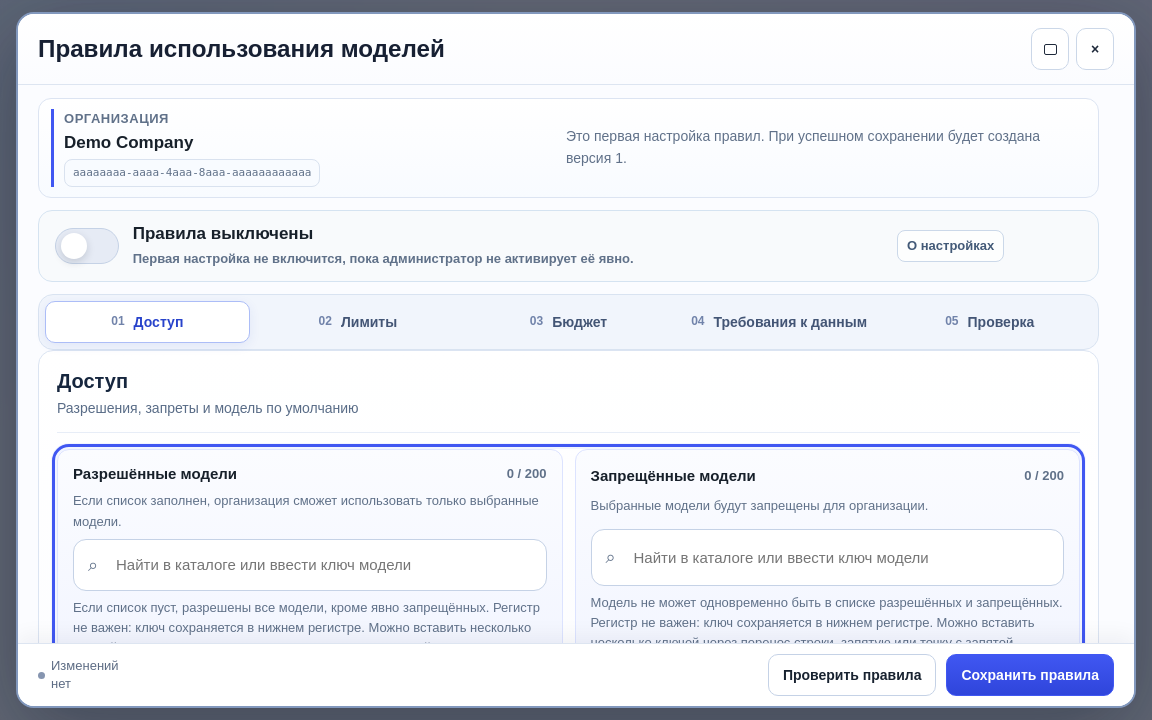
Test: ModelPolicyModal › показывает пользовательские названия без внутренних SOFT/runtime/policy формулировок
Expected: the heading "Правила использования моделей" is shown, [38,33,445,65]
Expected: the text "Это первая настройка правил. При успешном сохранении будет создана версия 1." is shown, [566,126,1086,170]
Step 1. Click the tab "03 Бюджет" → click(568, 322), box [466,301,671,343]
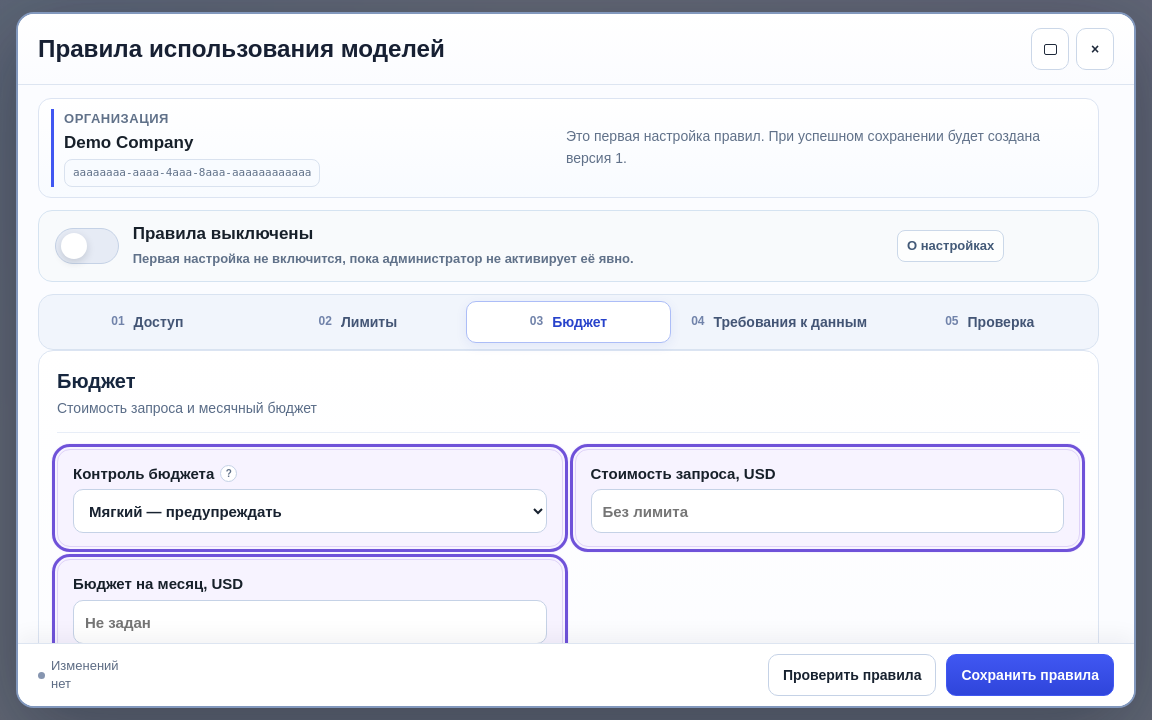
Step 2. Click the tab "01 Доступ" → click(147, 322), box [45,301,250,343]
(page scrolled)
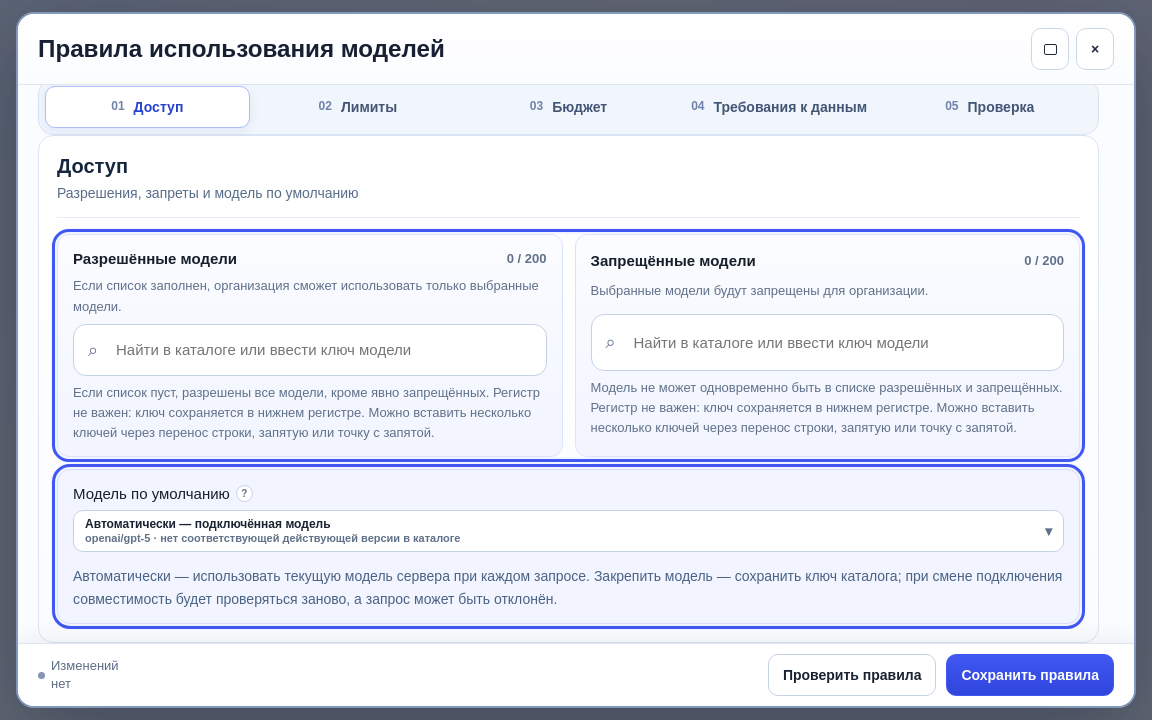
Expected: the button with aria-label "Использовать подключённую модель" is shown, [73,510,1064,552]
